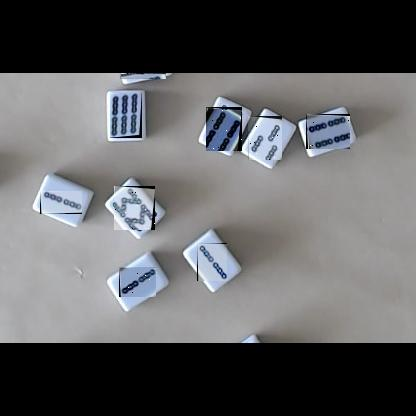2s: (197, 243, 227, 281), (119, 267, 156, 297), (40, 191, 82, 214)
3s: (248, 116, 282, 160)
4s: (206, 107, 242, 151), (306, 114, 350, 149)
6s: (110, 93, 142, 138)
8s: (114, 186, 155, 230), (120, 73, 166, 79)
